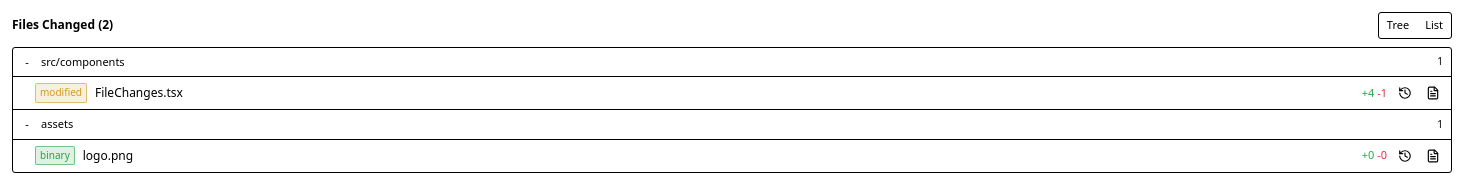
Test: FileChanges › collapses and expands tree directories
Click the button with aria-label "Collapse src/components" at coordinates (83, 61), box [13,48,1451,77]
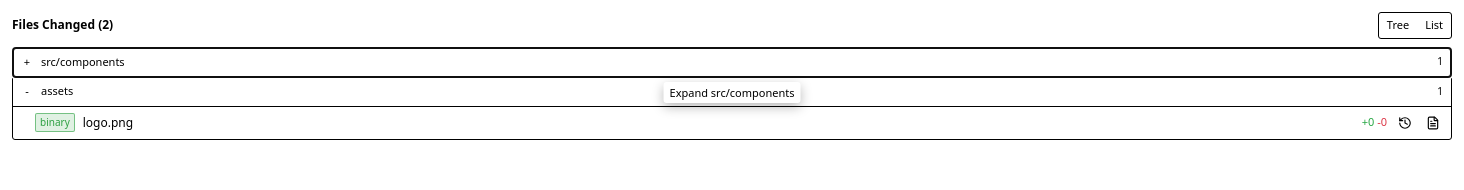
Expected: the button "FileChanges.tsx" is gone
Click the button with aria-label "Expand src/components" at coordinates (83, 61), box [13,48,1451,77]
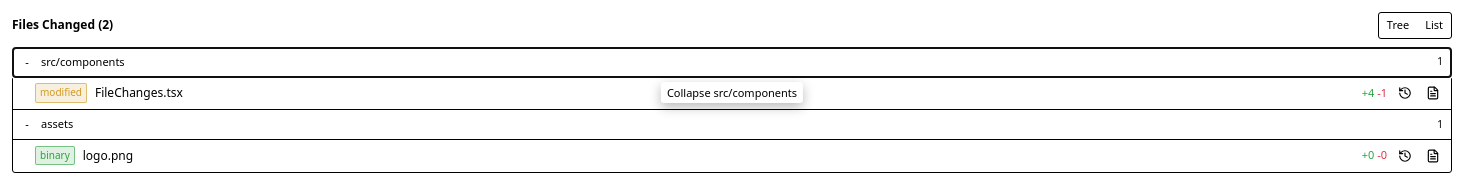
Expected: the button "FileChanges.tsx" is shown, [95,85,1354,101]
